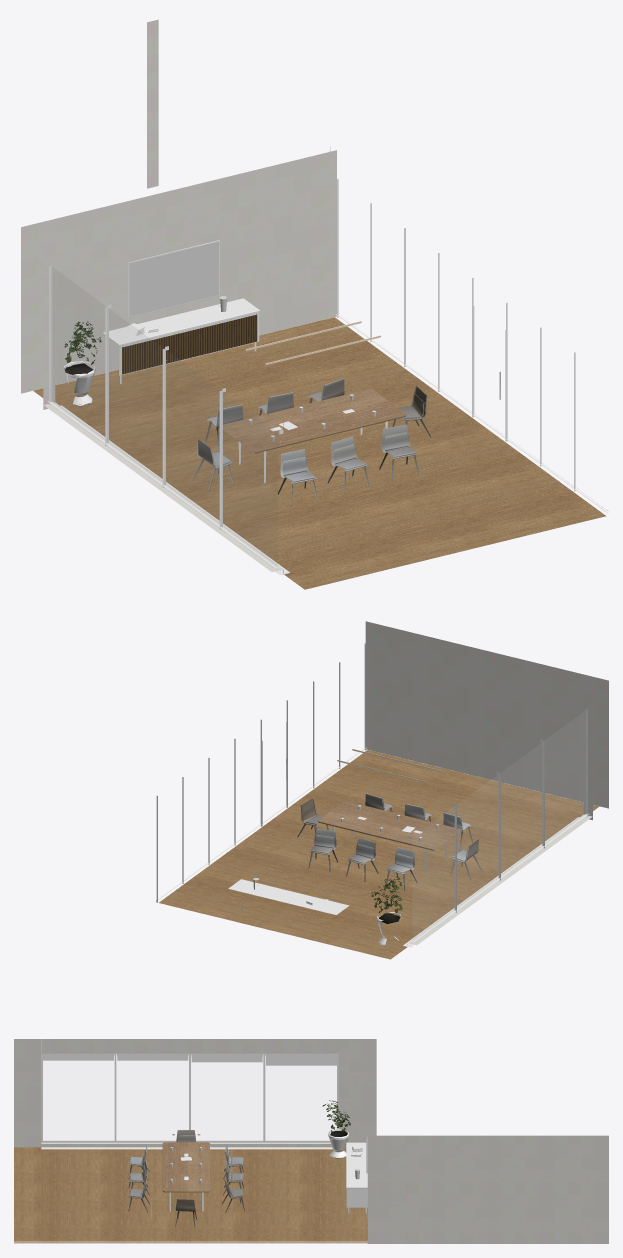
Rendered from z-meeting-lite.light.cd802a28.glb.
The picture shows the model from 3 angles, top to bottom: view 1: azimuth 30°, elevation 25°; view 2: azimuth 150°, elevation 25°; view 3: azimuth 270°, elevation 25°; orthographic projection. The views are drawn at different scales.
Parts seen in each view (by area): view 1: meeting_oak, meeting_plaster, meeting_satin, meeting_fx, meeting_gloss, meeting_proxy_cab, meeting_veg_atlas; view 2: meeting_oak, meeting_plaster, meeting_satin, meeting_fx, meeting_veg_atlas; view 3: meeting_plaster, meeting_oak, meeting_satin, meeting_fx, meeting_veg_atlas, meeting_metal_lit.
Boxes of the visible parts, x1,y1,x2,y2 form: meeting_oak: (33, 317, 606, 589); meeting_plaster: (21, 19, 336, 573); meeting_satin: (48, 178, 608, 575); meeting_fx: (192, 378, 431, 505); meeting_gloss: (129, 241, 376, 441); meeting_proxy_cab: (122, 314, 257, 374); meeting_veg_atlas: (64, 321, 101, 374); meeting_oak: (159, 750, 599, 959); meeting_plaster: (365, 621, 608, 945); meeting_satin: (156, 643, 588, 947); meeting_fx: (297, 793, 481, 891); meeting_veg_atlas: (371, 873, 402, 923); meeting_plaster: (14, 1039, 608, 1243); meeting_oak: (14, 1142, 367, 1243); meeting_satin: (14, 1053, 367, 1242); meeting_fx: (128, 1130, 244, 1227); meeting_veg_atlas: (322, 1100, 350, 1136); meeting_metal_lit: (41, 1149, 332, 1217).
Bounding box in the file's own units: 6.55 × 3.3 × 16.4.
Materials: 10 (5 with a texture image).
